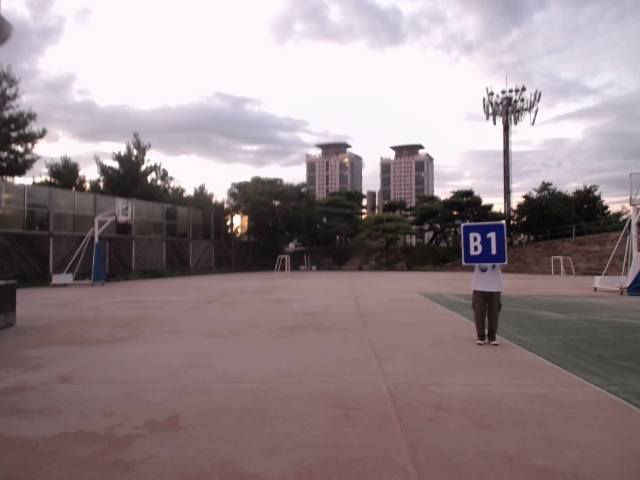delivery_b1: (461, 222, 507, 265)
